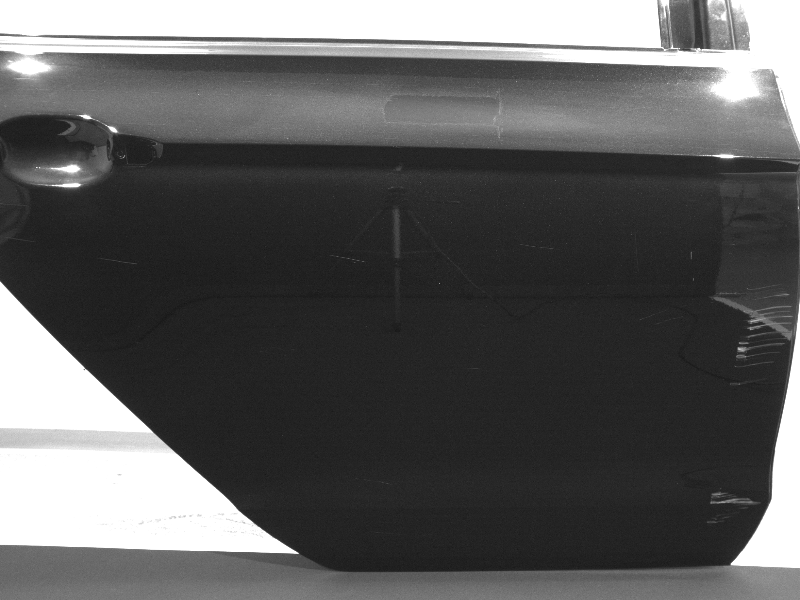scratch: (729, 283, 794, 386), (706, 491, 761, 525), (637, 309, 686, 325), (631, 229, 642, 274), (98, 257, 141, 266), (330, 254, 366, 264), (358, 476, 391, 486), (3, 235, 36, 243), (520, 244, 555, 251), (1, 202, 28, 208), (717, 291, 745, 296), (464, 367, 480, 371)
